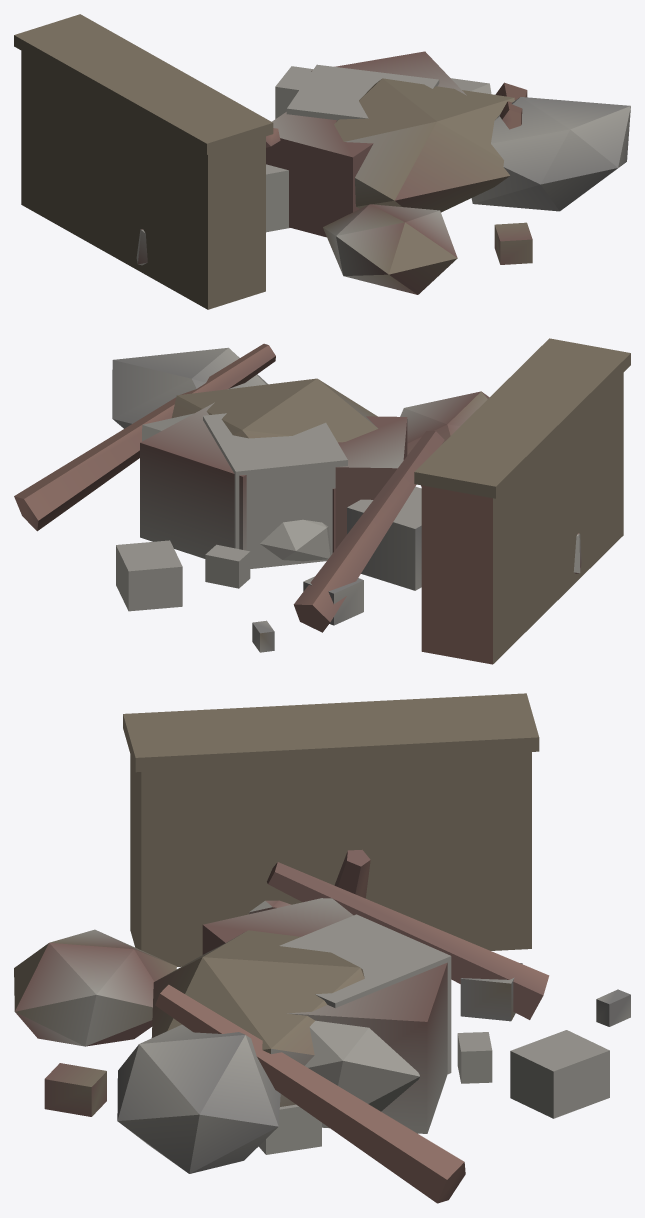
File: rubble_pile.glb
The picture shows the model from 3 angles, top to bottom: view 1: azimuth 30°, elevation 25°; view 2: azimuth 150°, elevation 25°; view 3: azimuth 270°, elevation 25°; orthographic projection. The views are drawn at different scales.
Parts seen in each view (by area): view 1: rubble_pile; view 2: rubble_pile; view 3: rubble_pile.
Part boxes in pixels (<box>): rubble_pile: <box>14,14,630,309</box>; rubble_pile: <box>14,338,630,664</box>; rubble_pile: <box>14,693,630,1203</box>.
Size of the model in its own units: 2.72 by 0.9385 by 2.35.
